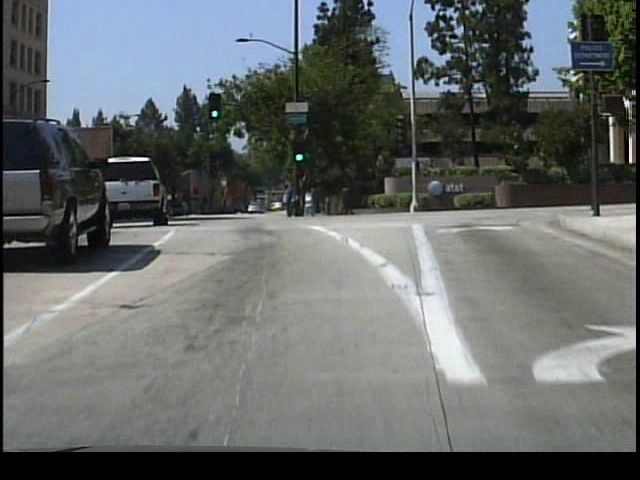person: (278, 176, 297, 220), (300, 183, 320, 221)
